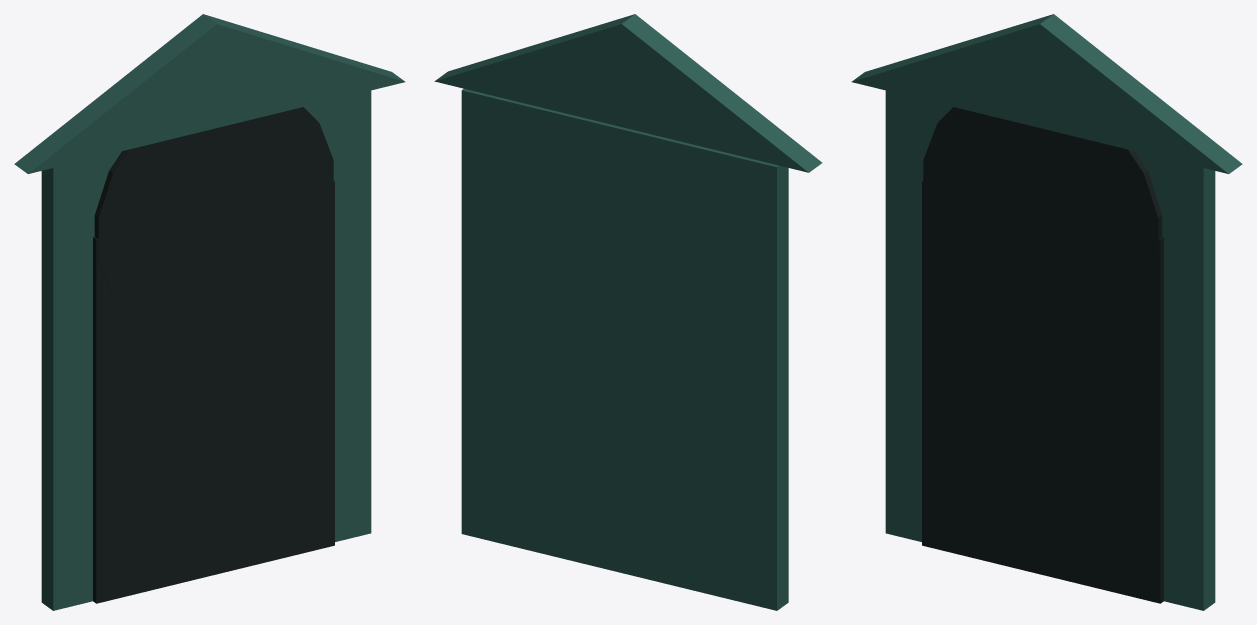
The model's file is porta.glb.
3 views of the same model, side by side, from view 1: azimuth 30°, elevation 25°; view 2: azimuth 150°, elevation 25°; view 3: azimuth 330°, elevation 25° (orthographic).
Visible parts, largest first — view 1: porta; view 2: porta; view 3: porta.
Part boxes in pixels (x1,y1,x2,y2): porta: [14, 14, 405, 610]; porta: [434, 14, 822, 610]; porta: [851, 14, 1242, 610].
Size of the model in its own units: 1.9 by 2.65 by 0.14.
